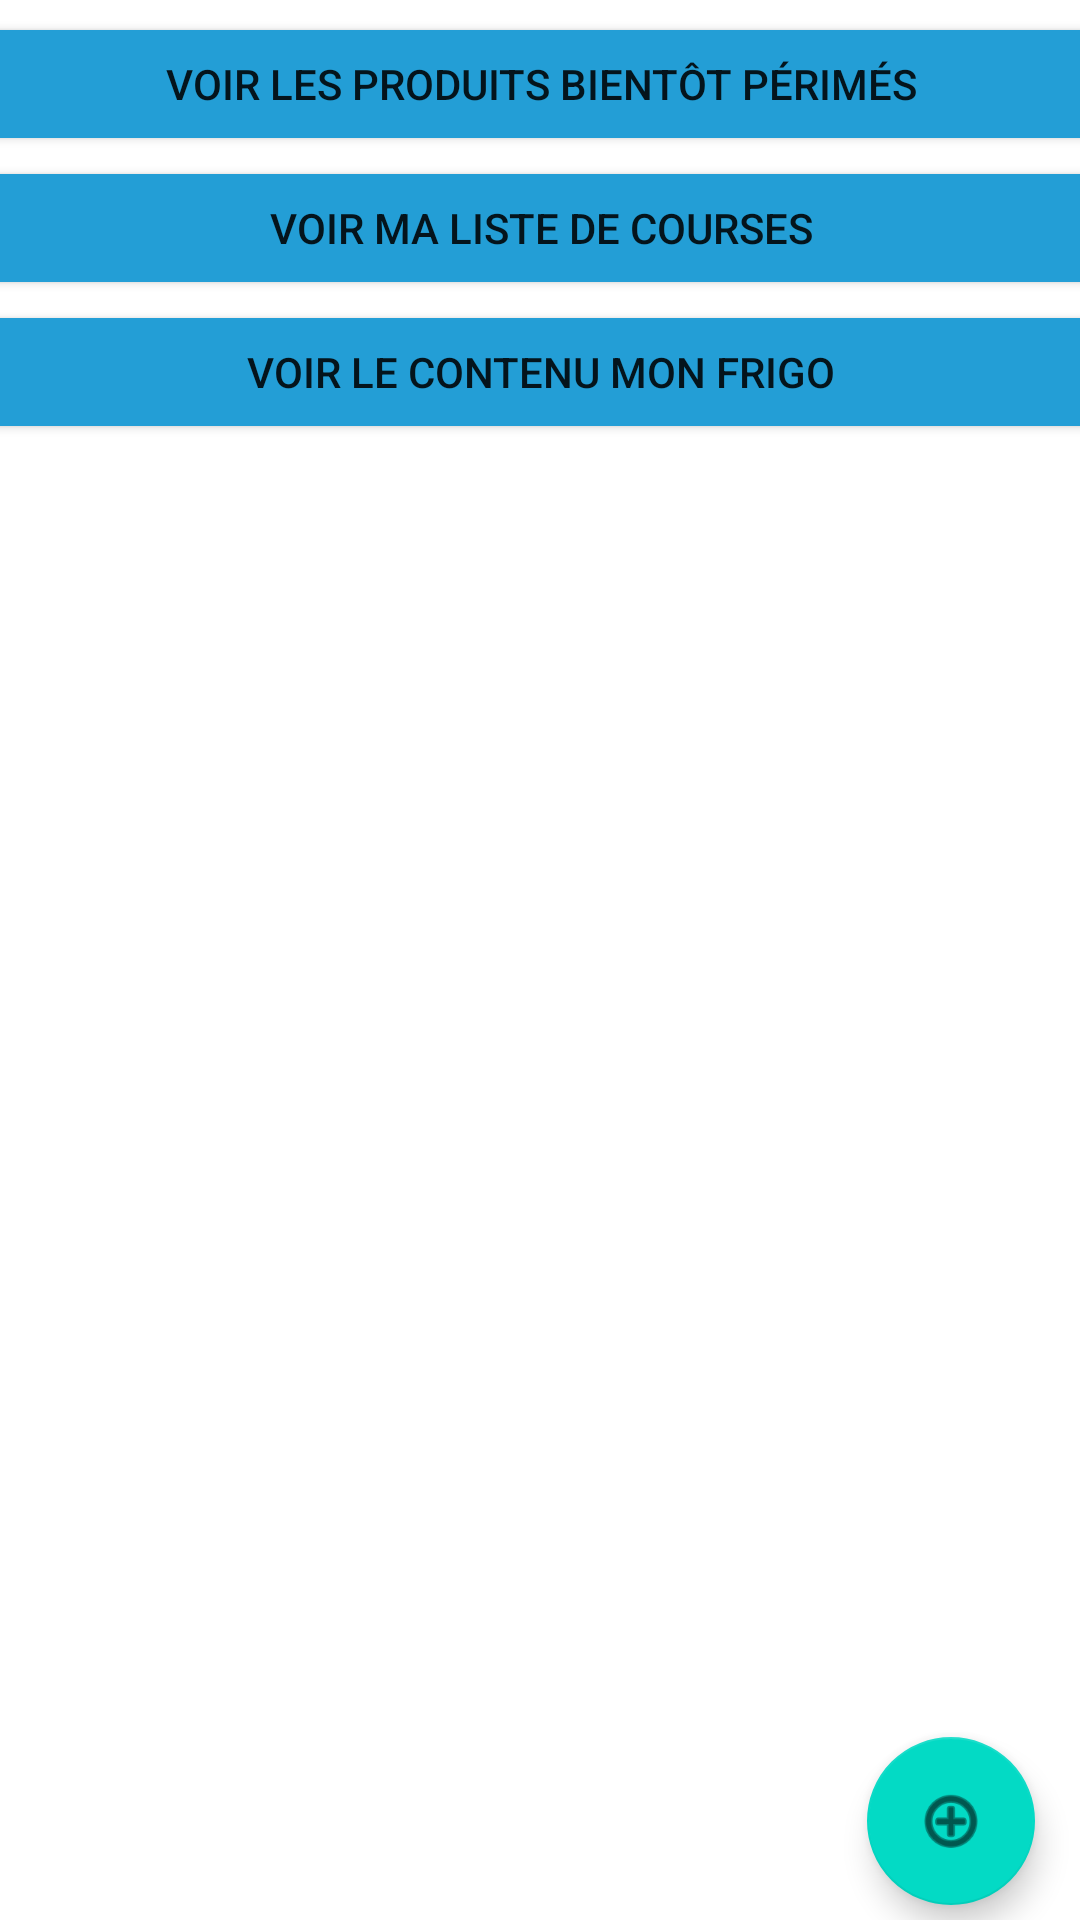

Point at icon controls on the screen. Image size 1080w x 1920h, points as [x,y].
add: [951,1821]
